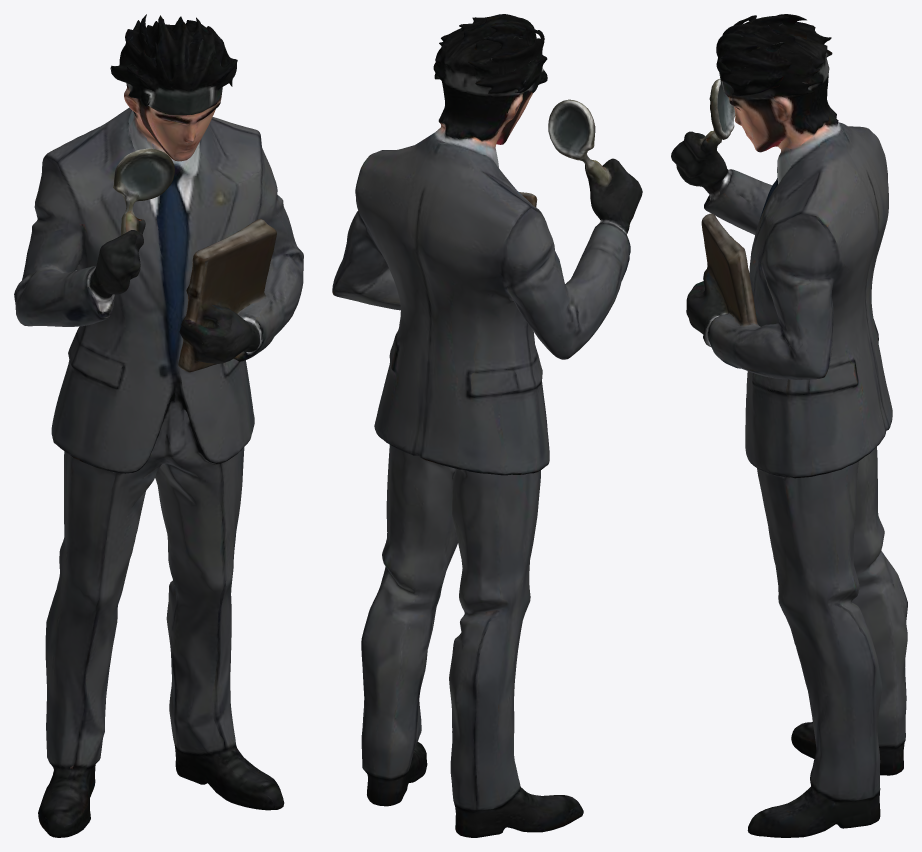
File: neutral_auditor.glb
3 renders of one model, left to right at view 1: azimuth 30°, elevation 25°; view 2: azimuth 150°, elevation 25°; view 3: azimuth 270°, elevation 25°, orthographic. The views are drawn at different scales.
Bounding box in the file's own units: 0.3487 × 0.9695 × 0.2699.
1 material, 1 textured.
